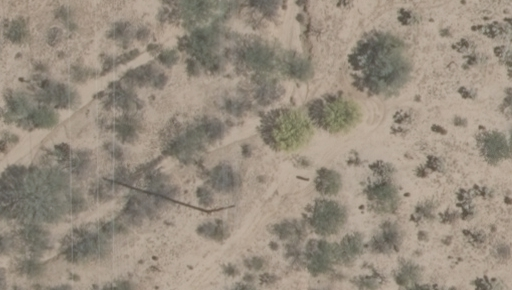DT: (207, 202, 236, 215)
